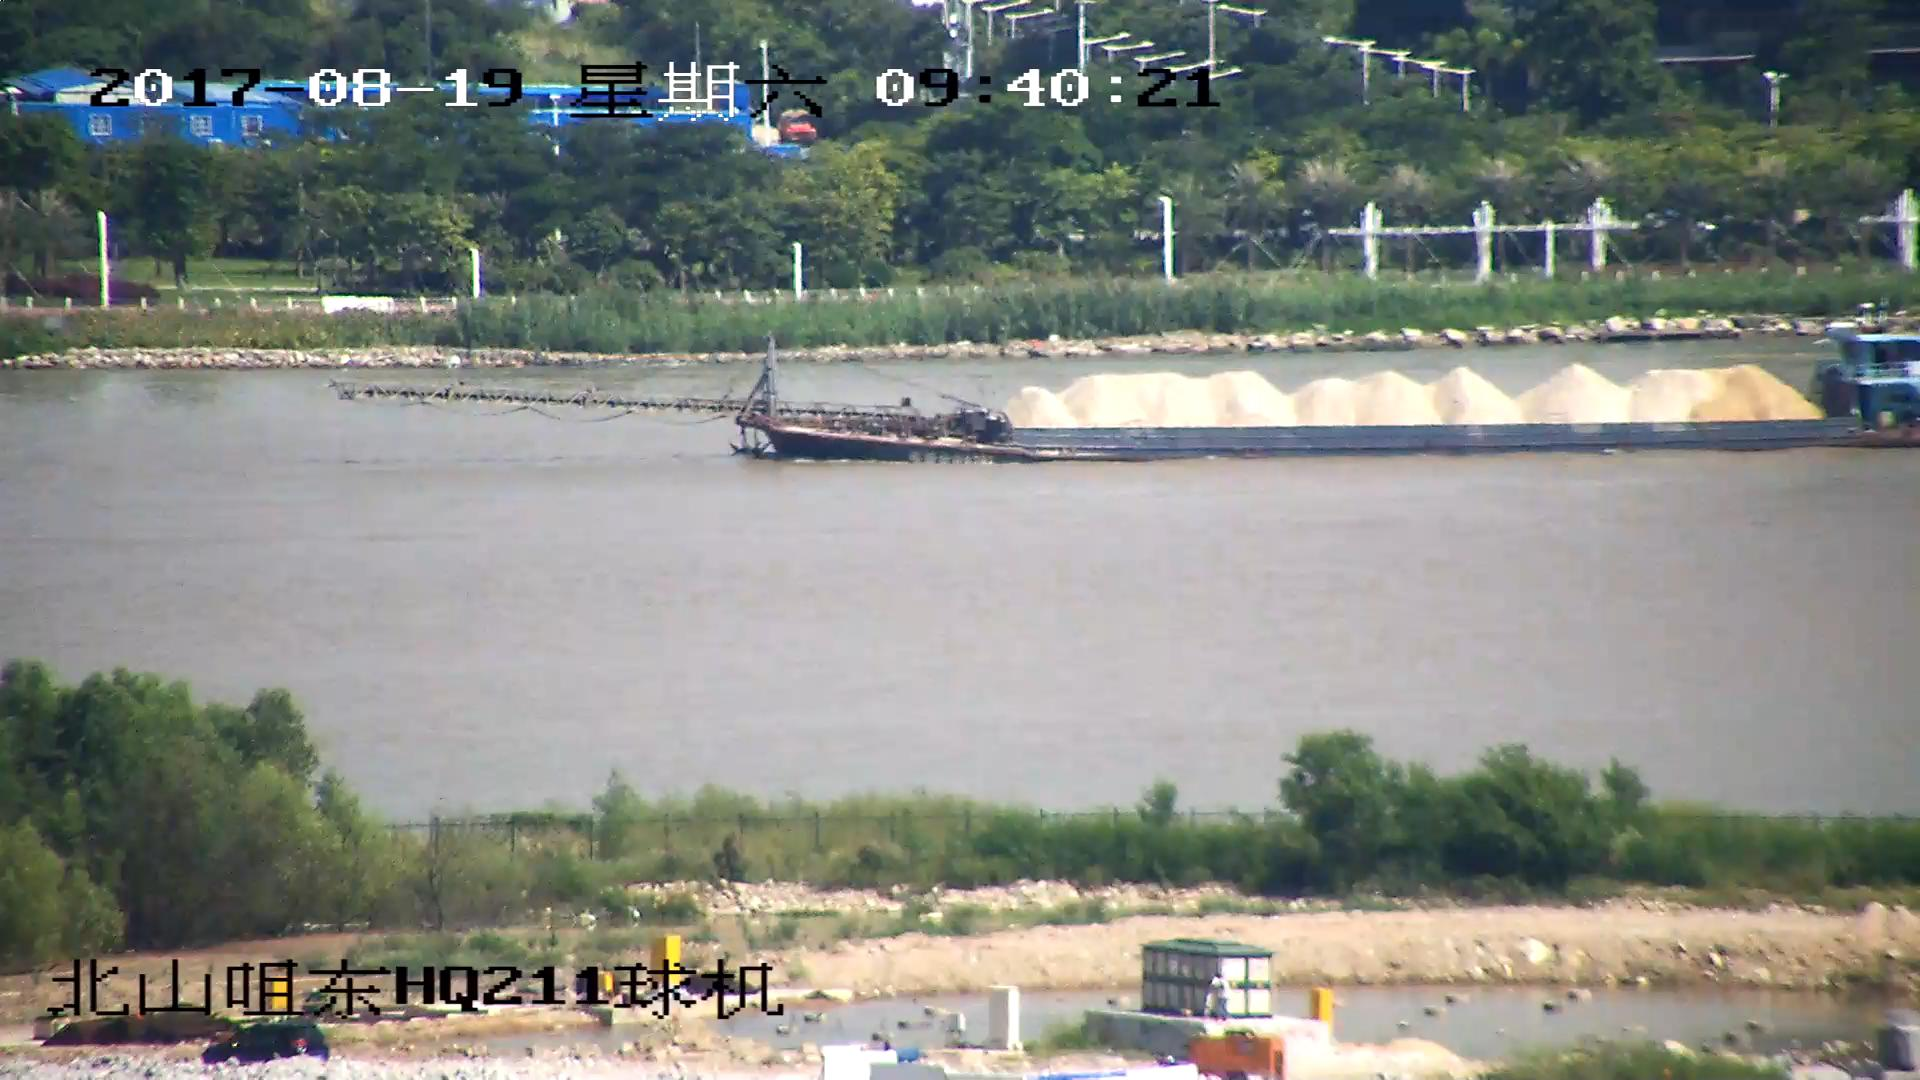ore carrier: (341, 322, 1920, 463)
